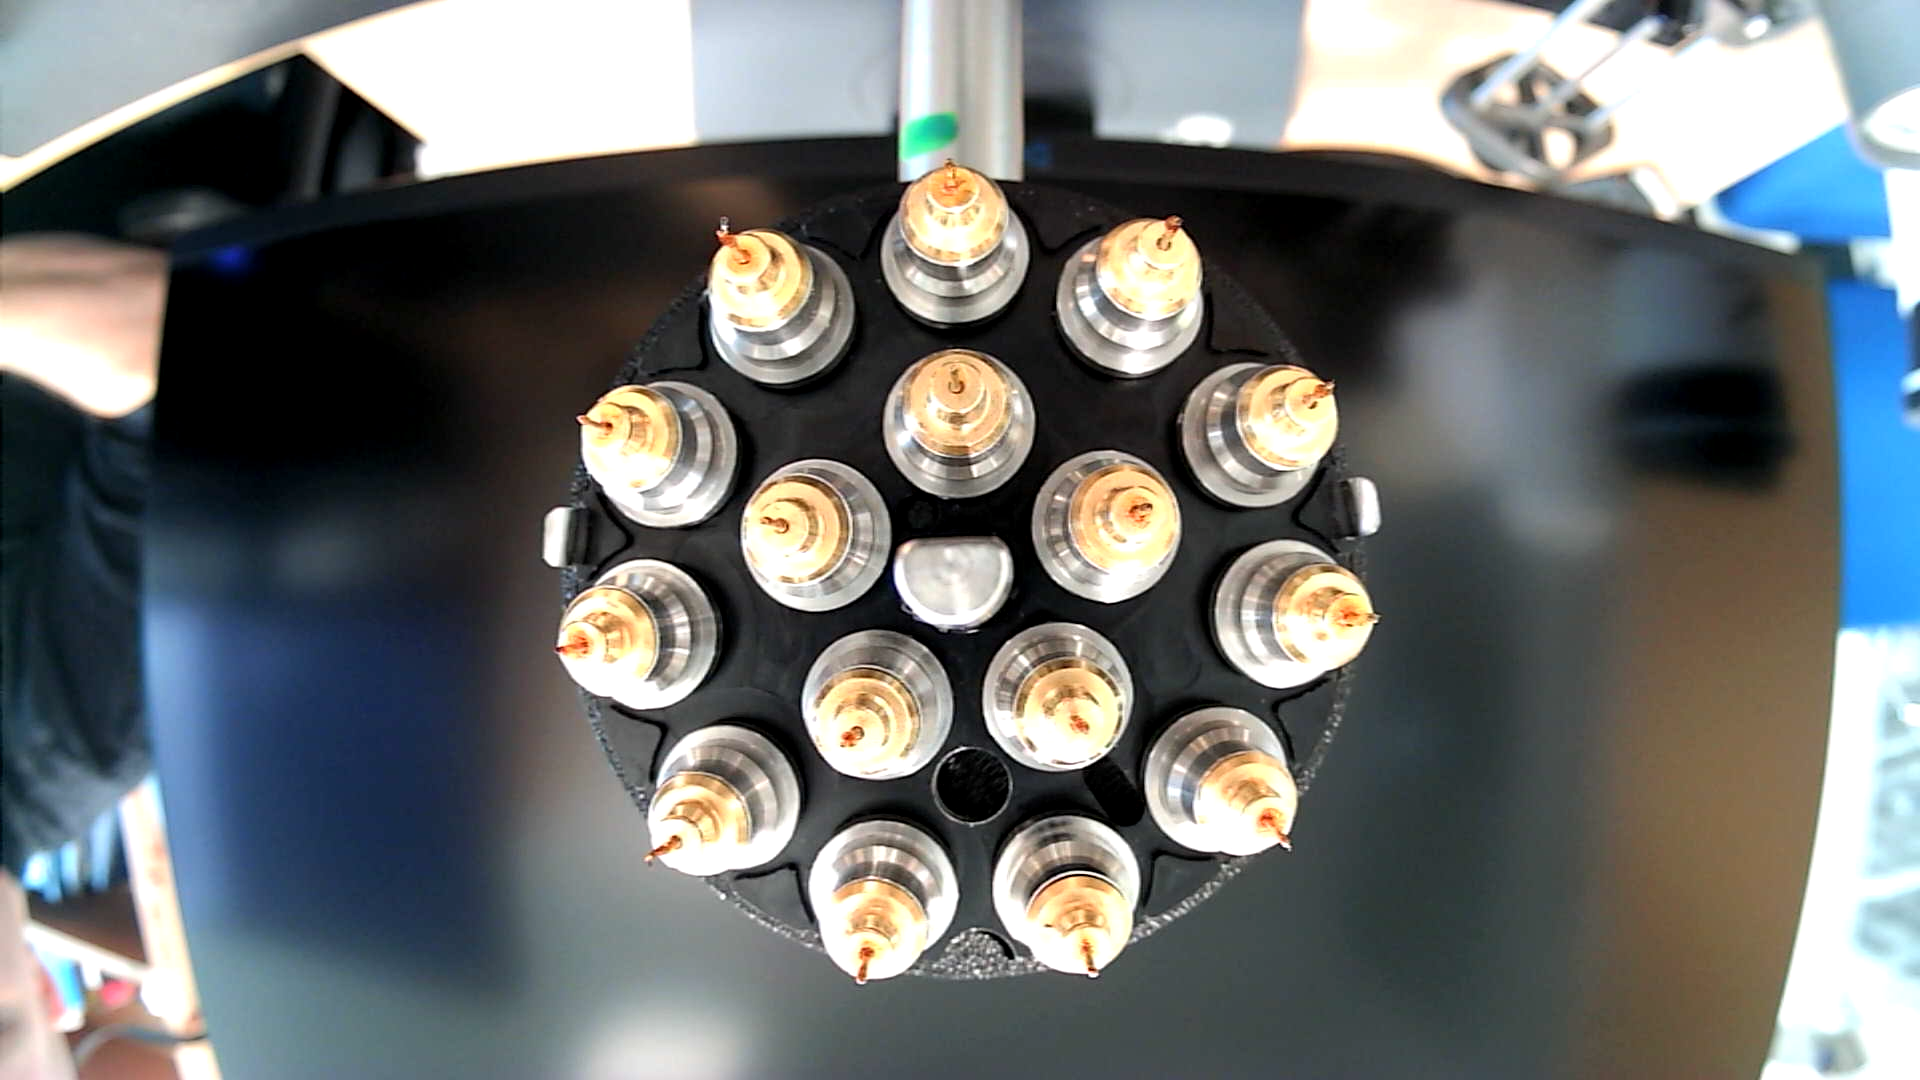hole: (931, 745, 1014, 829)
pin: (550, 556, 728, 713), (877, 156, 1033, 335), (1209, 534, 1381, 695), (807, 818, 961, 989), (702, 214, 855, 385), (1058, 208, 1208, 382), (1029, 447, 1185, 611), (574, 378, 740, 531), (990, 814, 1143, 980), (1178, 357, 1342, 510), (737, 458, 895, 616), (880, 345, 1039, 502), (1139, 702, 1299, 858), (642, 723, 803, 877), (981, 620, 1138, 777), (800, 626, 955, 785)
rod: (889, 533, 1021, 640)
